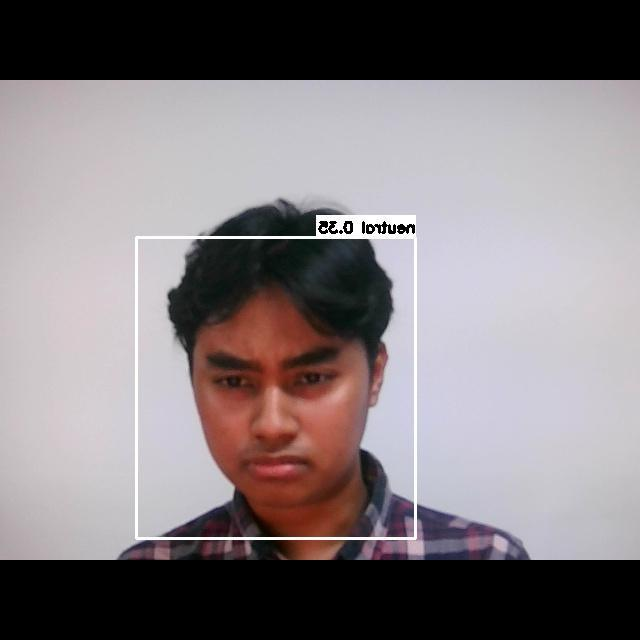Angry: (192, 325, 360, 488)
